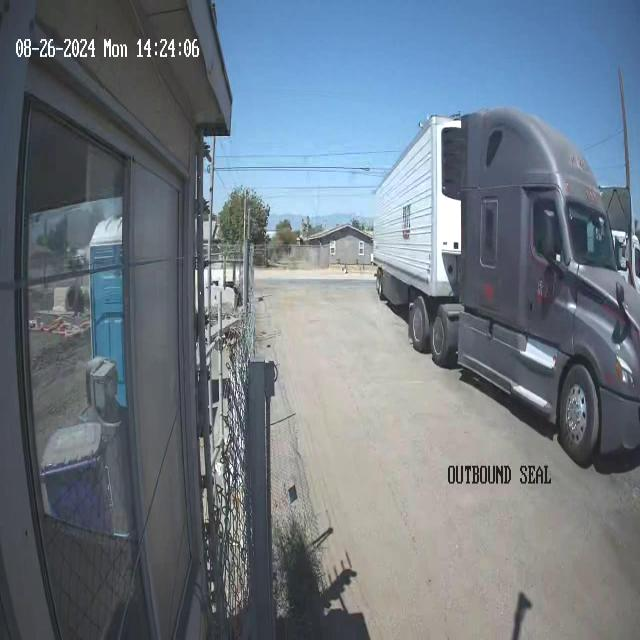CONTAINER: (372, 104, 465, 296)
